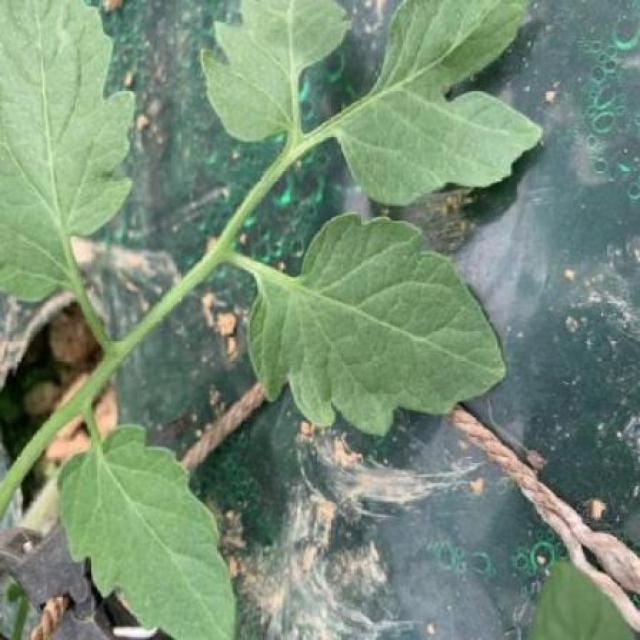Healthy: (248, 214, 506, 436), (340, 0, 541, 207), (0, 0, 134, 301), (55, 426, 236, 638)
